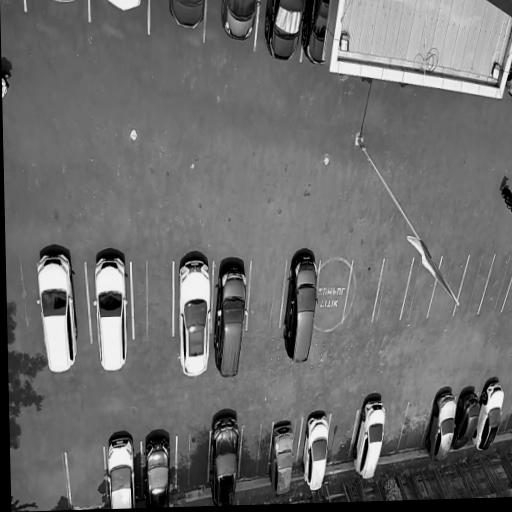Car: (171, 236, 216, 384), (33, 239, 78, 381), (90, 235, 132, 382), (208, 249, 250, 391), (280, 253, 321, 370), (350, 395, 392, 483), (206, 410, 242, 506), (469, 376, 510, 459), (298, 409, 334, 496), (422, 392, 462, 467), (262, 0, 305, 65), (105, 431, 139, 509), (141, 427, 173, 508), (298, 0, 335, 68), (268, 417, 299, 496), (449, 390, 484, 454), (217, 0, 261, 48), (166, 0, 207, 32), (99, 0, 141, 16), (504, 61, 512, 99)
Space Available: (131, 259, 173, 343), (247, 263, 287, 331), (373, 259, 415, 323), (64, 447, 107, 509), (428, 255, 470, 318), (314, 258, 353, 323), (453, 256, 495, 316), (344, 260, 383, 324), (402, 257, 441, 318), (176, 431, 210, 496), (479, 255, 512, 315), (239, 423, 273, 481), (326, 412, 359, 467), (398, 400, 432, 453), (381, 404, 409, 458), (497, 386, 512, 438), (503, 281, 512, 314), (505, 411, 512, 432)
